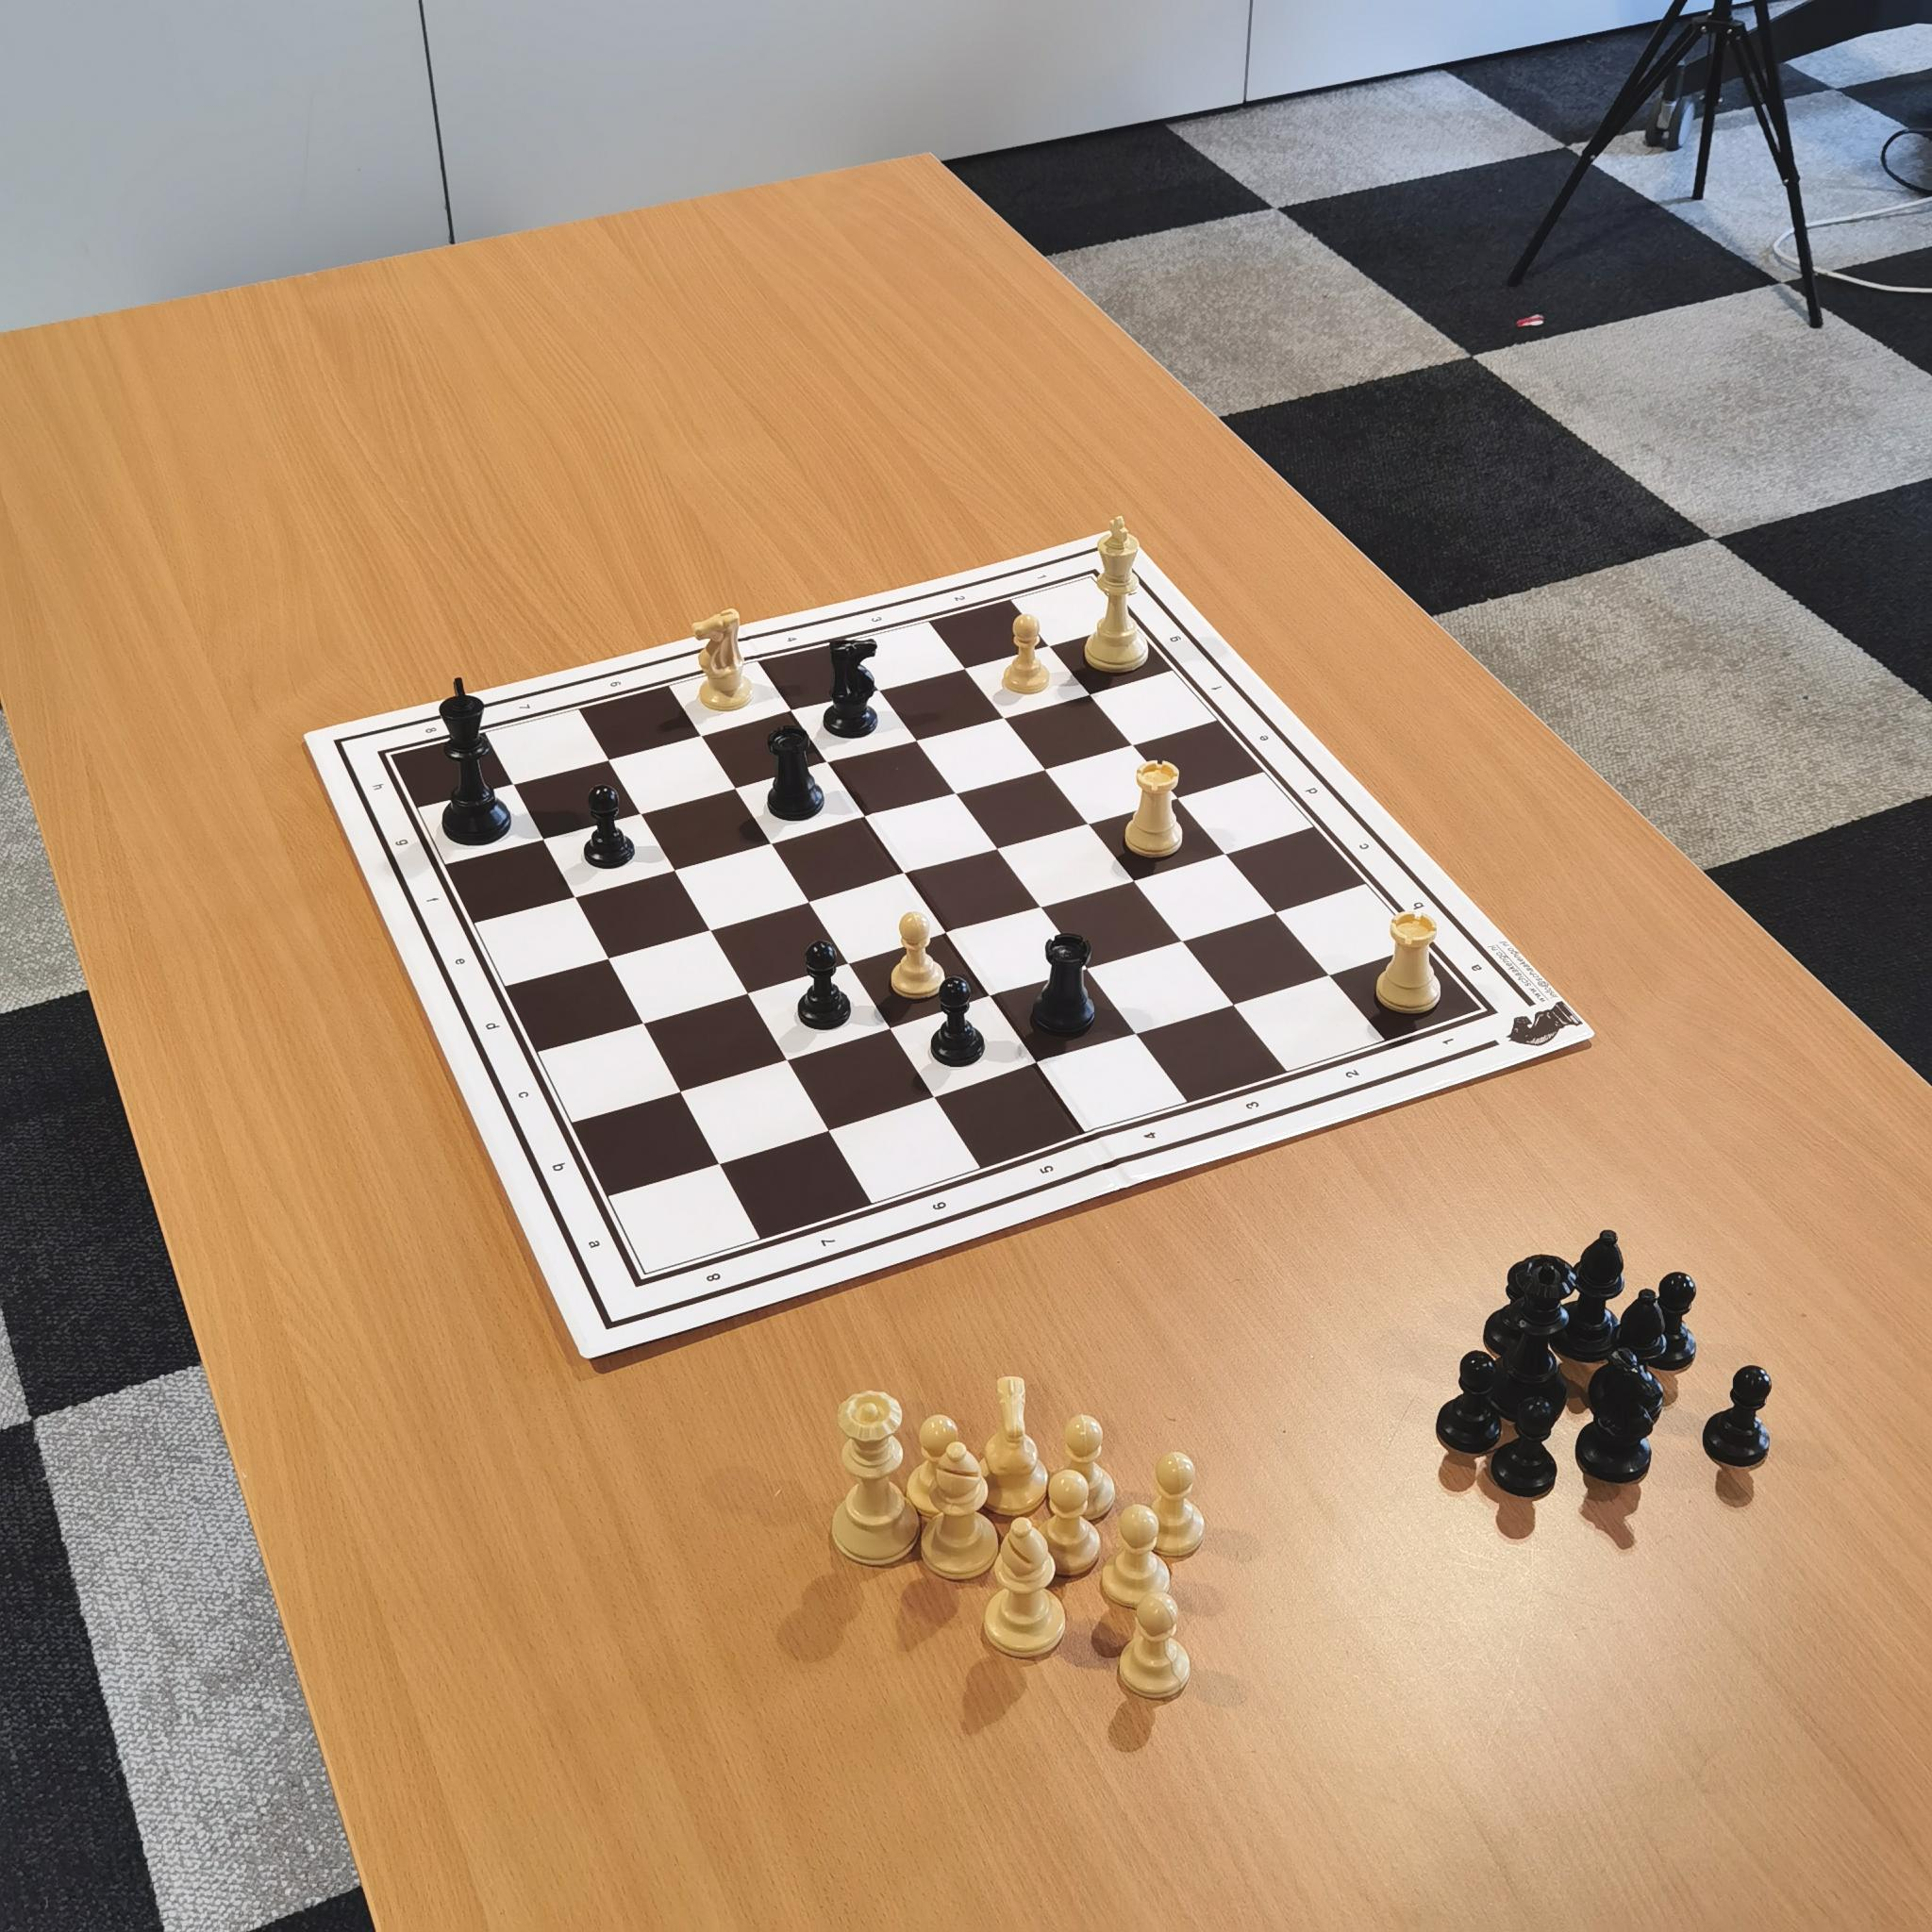corners: (1472, 1000, 1513, 1039), (623, 1265, 662, 1299), (363, 740, 403, 770), (1081, 561, 1111, 589)
eight: (699, 1258, 734, 1297), (419, 715, 448, 743)
one: (1433, 1024, 1463, 1054), (1033, 564, 1062, 589)
